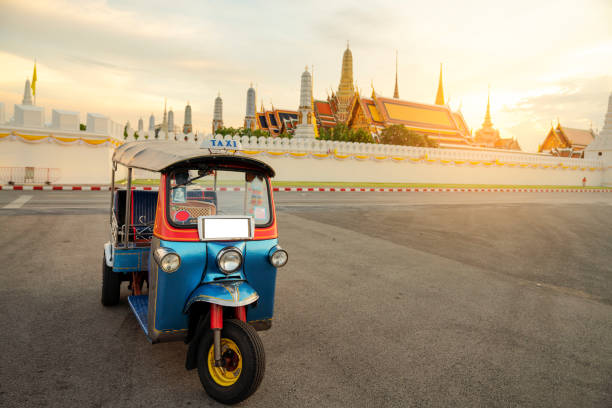threewheel: (100, 138, 289, 404)
